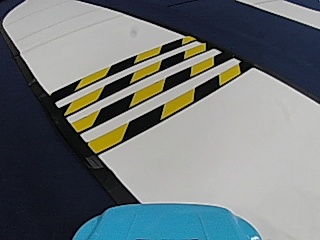bump: (59, 46, 201, 142)
